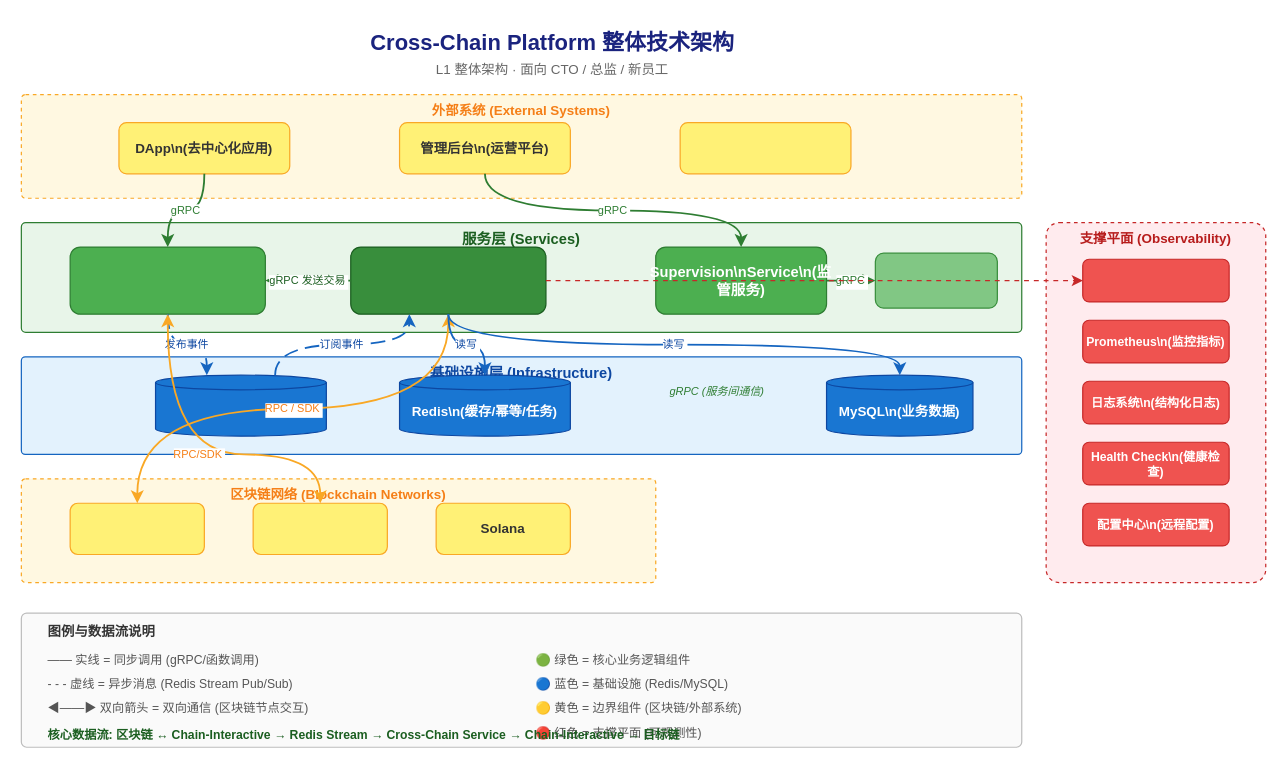
This 1287x769 diagram has some shape labels left out. The centre of each missing label's shape, as x and y in pixels:
"Chain-Interactive\nService\n(链交互服务)" belongs at [167,280].
"ChainMaker\n(长安链)" belongs at [319,528].
"Cross-Chain\nService\n(跨链服务)" belongs at [448,280].
"Ethereum\n(以太坊)" belongs at [136,528].
"File Service\n(文件服务)" belongs at [935,280].
"Jaeger\n(链路追踪)" belongs at [1155,280].
"Redis Stream\n(事件总线)" belongs at [240,405].
"外部区块链\n(需跨链交互)" belongs at [765,147].
